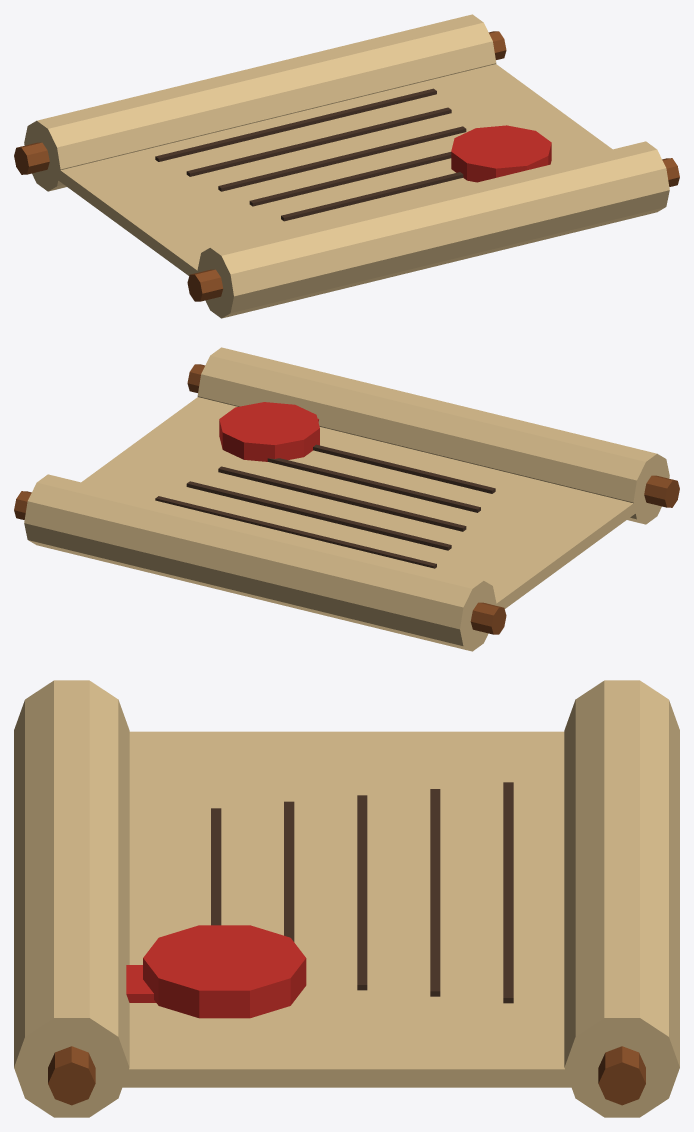
Rendered from scroll_letter.glb.
3 views of the same model, one above another, from view 1: azimuth 30°, elevation 25°; view 2: azimuth 150°, elevation 25°; view 3: azimuth 270°, elevation 25° (orthographic). The views are drawn at different scales.
Visible parts, largest first — view 1: Letter, ScrollRoll, ScrollRoll.001, WaxSeal, Writing0, Writing1, Writing2, Writing3, Writing4, Rod.001, Rod; view 2: Letter, ScrollRoll.001, ScrollRoll, WaxSeal, Writing1, Writing2, Writing0, Writing3, Writing4, Rod, Rod.001; view 3: Letter, ScrollRoll, ScrollRoll.001, WaxSeal, Writing0, Writing1, Rod, Rod.001, Writing2, Writing3, Writing4, SealRibbon.
Boxes of the visible parts, left/top/right/bottom form: Letter: left=45, top=64, right=612, bottom=275; ScrollRoll: left=197, top=141, right=669, bottom=318; ScrollRoll.001: left=24, top=14, right=496, bottom=191; WaxSeal: left=451, top=125, right=551, bottom=182; Writing0: left=155, top=88, right=436, bottom=161; Writing1: left=186, top=107, right=451, bottom=176; Writing2: left=218, top=126, right=466, bottom=191; Writing3: left=249, top=152, right=451, bottom=206; Writing4: left=281, top=172, right=463, bottom=221; Rod.001: left=14, top=31, right=506, bottom=174; Rod: left=187, top=158, right=679, bottom=301; Letter: left=81, top=397, right=638, bottom=608; ScrollRoll.001: left=24, top=474, right=496, bottom=651; ScrollRoll: left=197, top=347, right=669, bottom=524; WaxSeal: left=219, top=402, right=319, bottom=461; Writing1: left=186, top=481, right=451, bottom=550; Writing2: left=218, top=466, right=466, bottom=531; Writing0: left=155, top=496, right=436, bottom=568; Writing3: left=267, top=458, right=480, bottom=512; Writing4: left=313, top=444, right=495, bottom=493; Rod: left=187, top=364, right=679, bottom=507; Rod.001: left=14, top=491, right=506, bottom=634; Letter: left=94, top=731, right=599, bottom=1087; ScrollRoll: left=14, top=680, right=129, bottom=1117; ScrollRoll.001: left=564, top=680, right=679, bottom=1117; WaxSeal: left=143, top=925, right=306, bottom=1018; Writing0: left=503, top=782, right=513, bottom=1003; Writing1: left=430, top=789, right=440, bottom=996; Rod: left=48, top=1046, right=95, bottom=1105; Rod.001: left=598, top=1046, right=645, bottom=1105; Writing2: left=357, top=795, right=367, bottom=990; Writing3: left=284, top=801, right=294, bottom=941; Writing4: left=211, top=808, right=221, bottom=925; SealRibbon: left=126, top=965, right=155, bottom=1002.
Bounding box in the file's own units: 5.15 × 0.6467 × 3.92.
